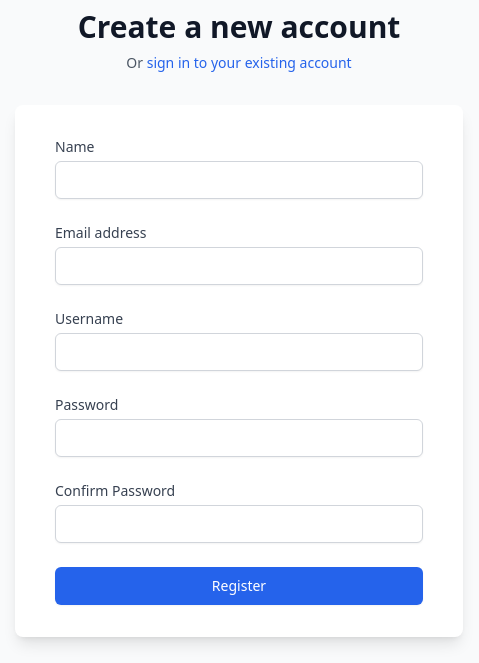
Test case: RegisterPage › should show loading state during registration
The image size is (479, 663).
Type "Test User" into the field labelled "Name". click: (239, 180)
box: [55,161,423,199]
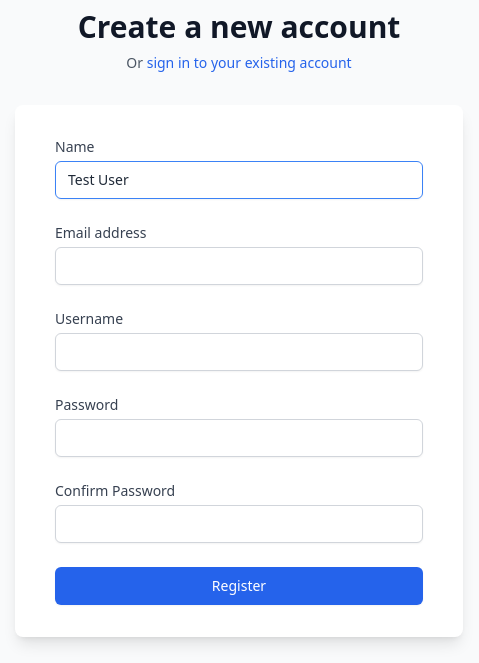
Type "testuser" into the field labelled "Username". click: (239, 352)
box: [55,333,423,371]
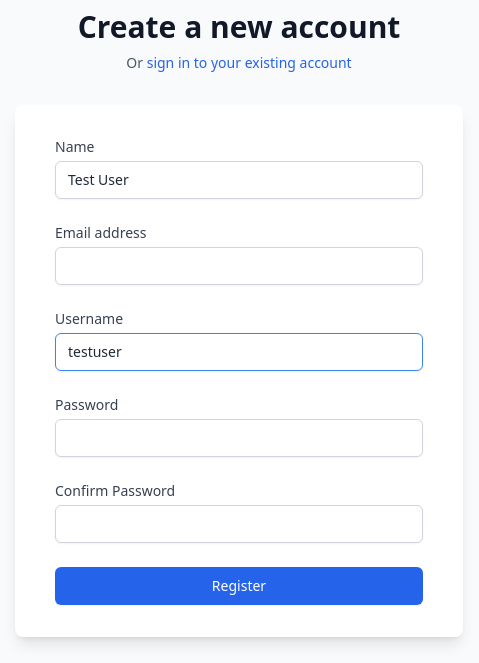
Type "test@example.com" into the field labelled "Email address". click: (239, 266)
box: [55,247,423,285]
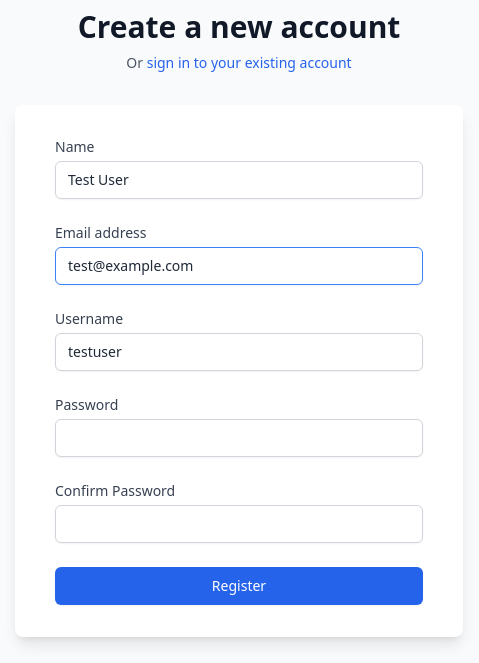
Type "password123" into the password field labelled "Password". click: (239, 438)
box: [55,419,423,457]
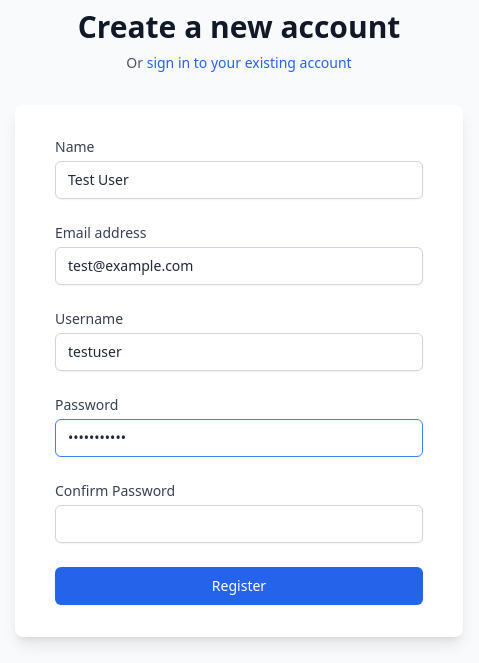
Type "password123" into the password field labelled "Confirm Password". click: (239, 524)
box: [55,505,423,543]
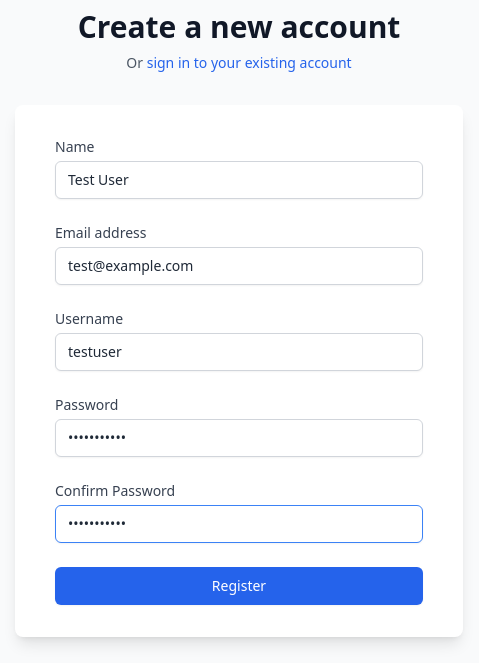
Click the button "Register". click: (239, 586)
box: [55,567,423,605]
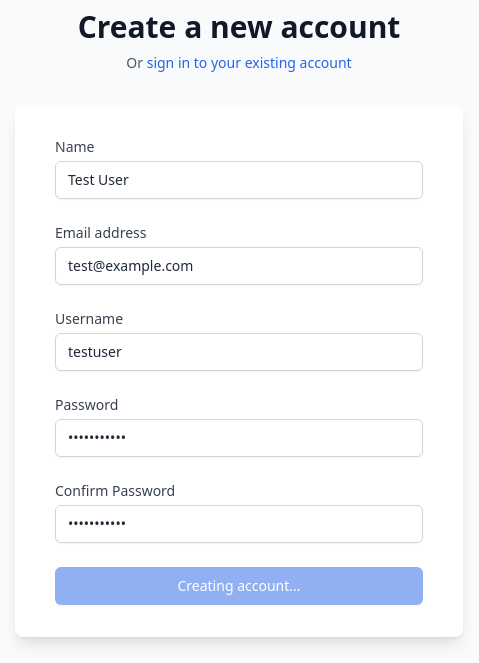
Check: the button "Creating account..." is disabled, box [55,567,423,605]
